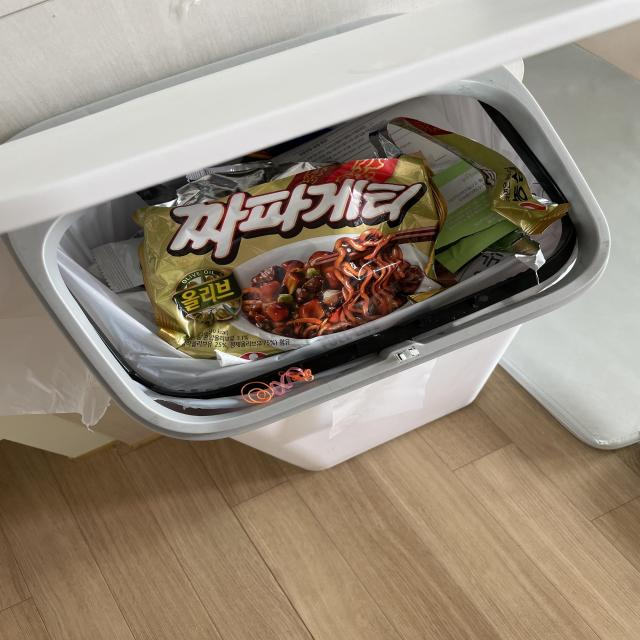litter: (144, 165, 440, 351), (264, 122, 551, 295), (109, 238, 152, 286)
